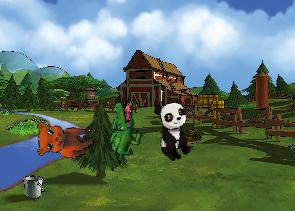bear: (32, 112, 96, 163)
crocodile: (97, 97, 150, 165)
panda: (152, 98, 195, 163)
